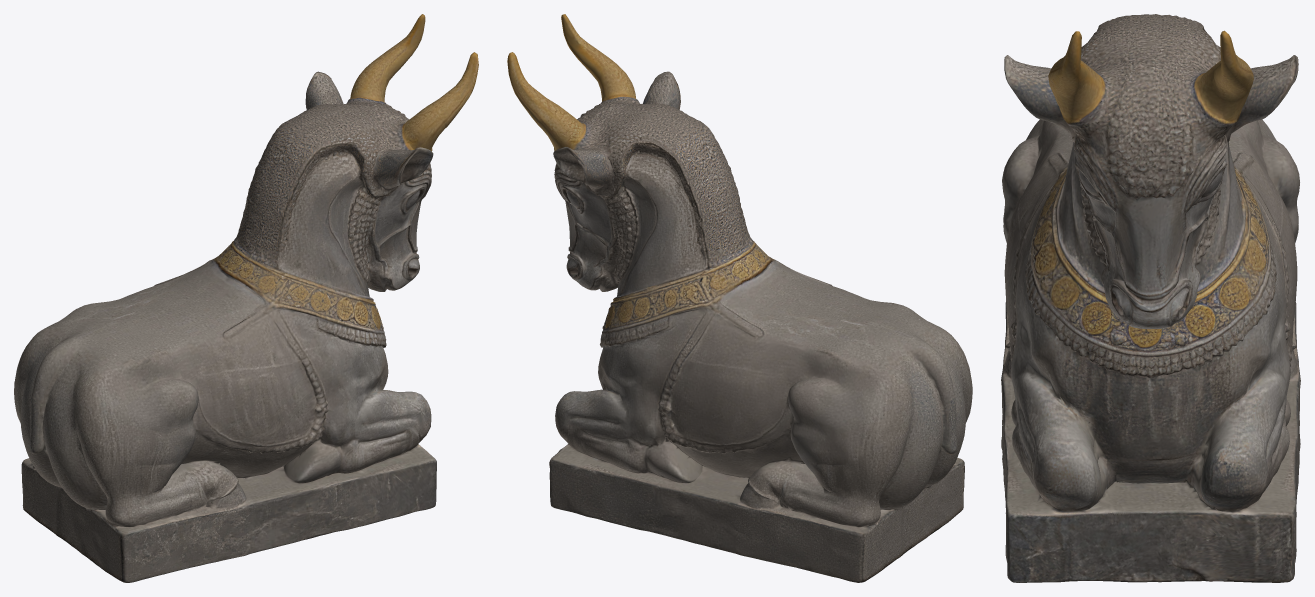
Rendered from hyp-1.glb.
3 views of the same model, side by side, from view 1: azimuth 30°, elevation 25°; view 2: azimuth 150°, elevation 25°; view 3: azimuth 270°, elevation 25° (orthographic). The views are drawn at different scales.
Visible parts, largest first — view 1: tripo_node_92247723-9f08-405f-9345-d7156885c3ce; view 2: tripo_node_92247723-9f08-405f-9345-d7156885c3ce; view 3: tripo_node_92247723-9f08-405f-9345-d7156885c3ce.
Boxes of the visible parts, left/top/right/bottom form: tripo_node_92247723-9f08-405f-9345-d7156885c3ce: left=14, top=14, right=478, bottom=582; tripo_node_92247723-9f08-405f-9345-d7156885c3ce: left=507, top=14, right=972, bottom=582; tripo_node_92247723-9f08-405f-9345-d7156885c3ce: left=1001, top=14, right=1300, bottom=582.
Size of the model in its own units: 1 by 0.9603 by 0.4381.
Materials: 1 (1 with a texture image).
